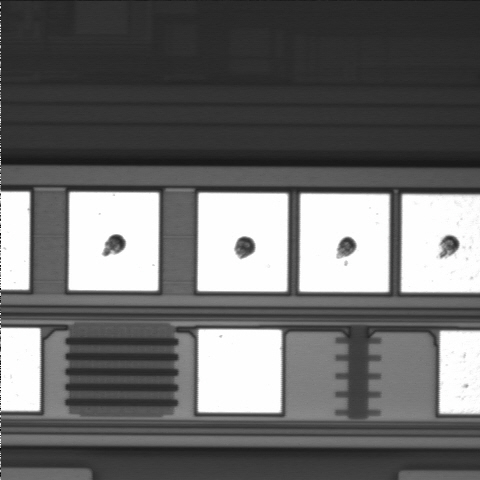pad: (69, 192, 159, 291), (198, 193, 288, 292), (299, 194, 389, 292), (198, 329, 282, 413)
